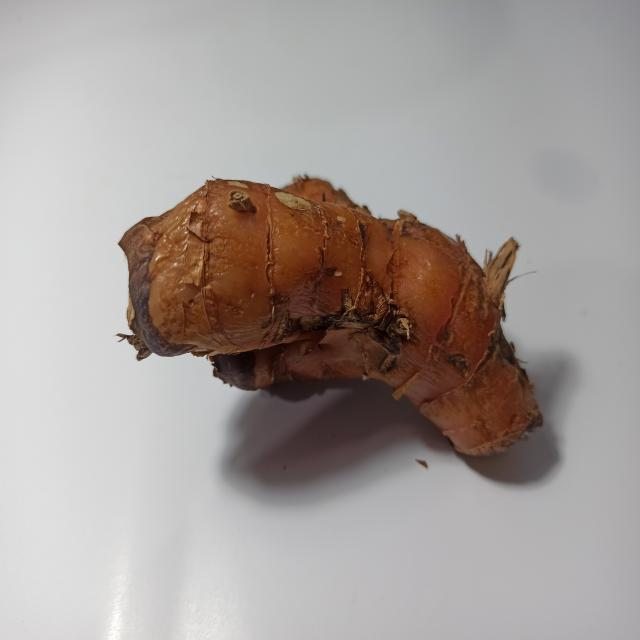ginger: (132, 157, 561, 435)
